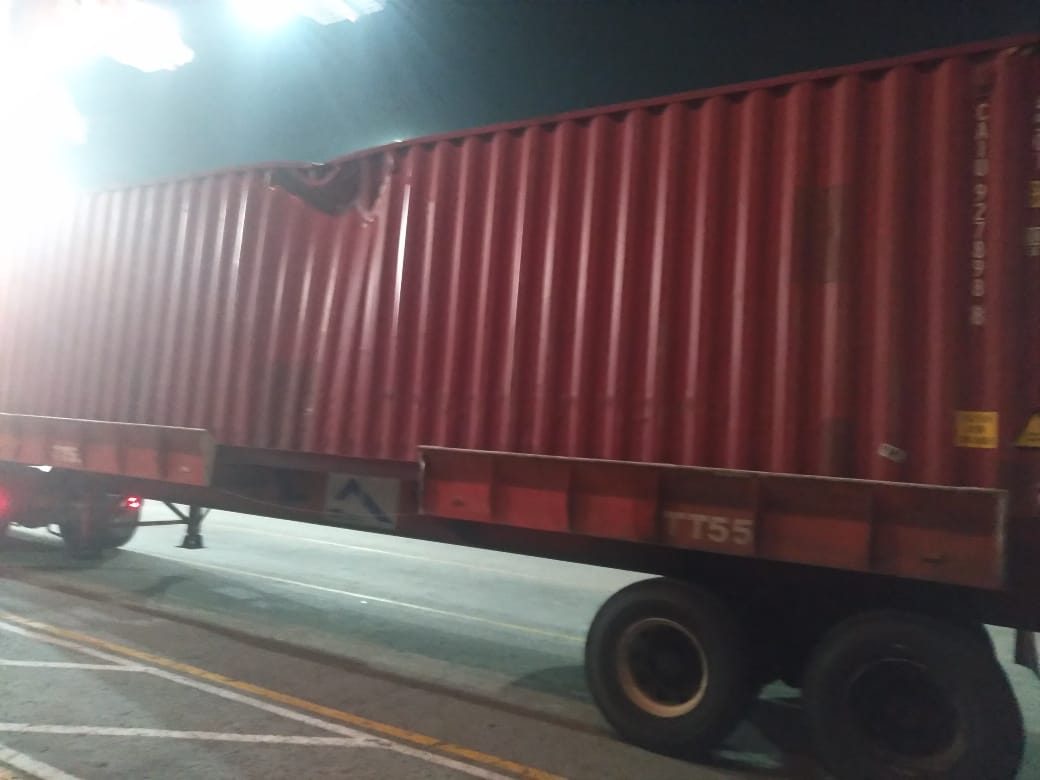dented: (246, 143, 443, 241)
